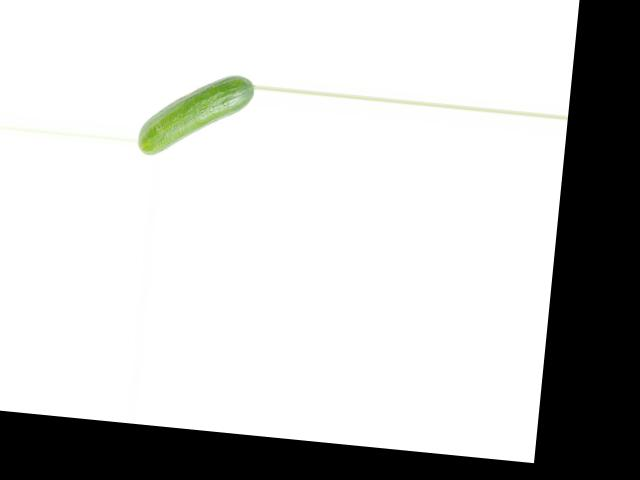cucumber: (136, 65, 256, 164)
